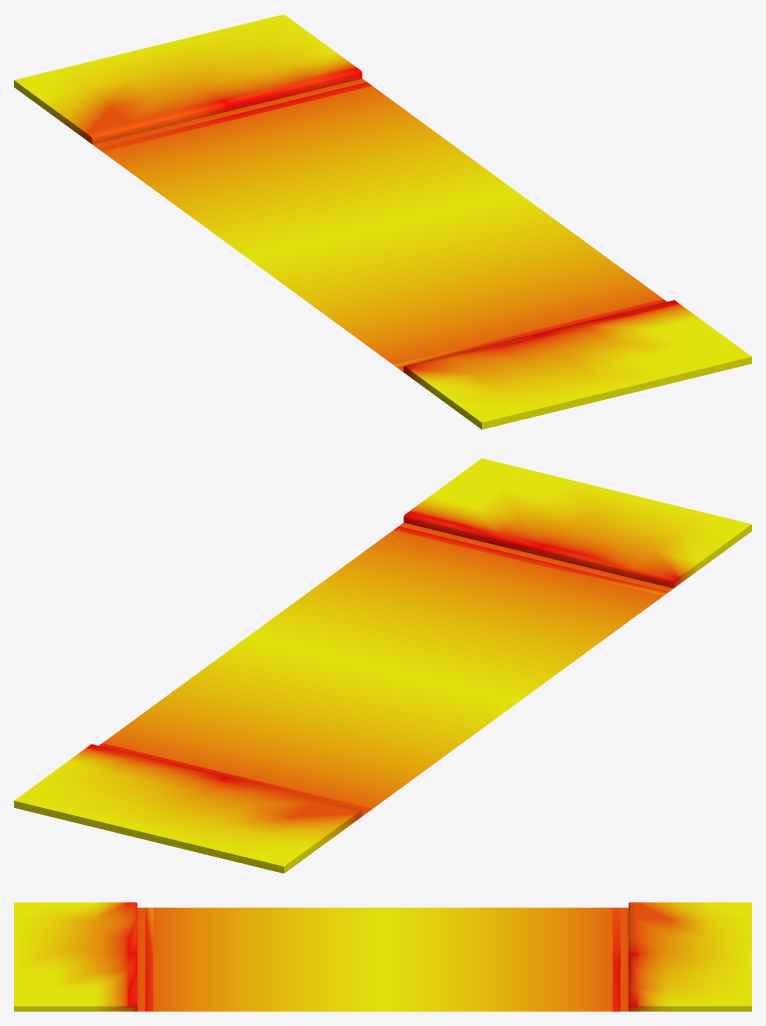
Rendered from street-4lane.glb.
3 views of the same model, one above another, from view 1: azimuth 30°, elevation 25°; view 2: azimuth 150°, elevation 25°; view 3: azimuth 270°, elevation 25° (orthographic). The views are drawn at different scales.
Parts seen in each view (by area): view 1: Street_4Lane; view 2: Street_4Lane; view 3: Street_4Lane.
Boxes of the visible parts, <box> form: Street_4Lane: <box>14,14,751,429</box>; Street_4Lane: <box>14,458,751,873</box>; Street_4Lane: <box>14,902,751,1011</box>.
Bounding box in the file's own units: 6 × 0.15 × 18.
3 materials, 3 textured.
